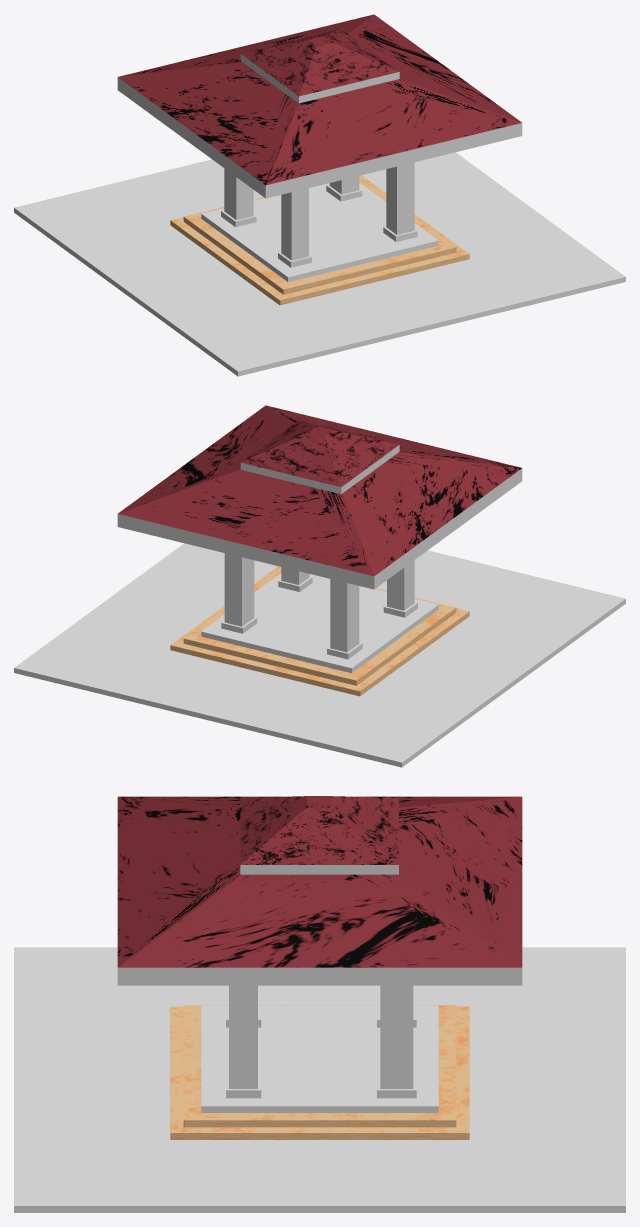
File: RumahMobilTni.fbx
The picture shows the model from 3 angles, top to bottom: view 1: azimuth 30°, elevation 25°; view 2: azimuth 150°, elevation 25°; view 3: azimuth 270°, elevation 25°; orthographic projection. The views are drawn at different scales.
Visible parts, largest first — view 1: Cube.002, Cube, Plane, Cube.001, Cube.003; view 2: Cube.002, Cube, Plane, Cube.001, Cube.003; view 3: Cube.002, Cube, Plane, Cube.001, Cube.003.
Boxes of the visible parts, <box> form: Cube.002: <box>14,152,625,376</box>; Cube: <box>117,14,522,198</box>; Plane: <box>201,162,438,282</box>; Cube.001: <box>170,175,469,305</box>; Cube.003: <box>240,29,399,103</box>; Cube.002: <box>14,543,625,767</box>; Cube: <box>117,405,522,589</box>; Plane: <box>201,553,438,673</box>; Cube.001: <box>170,566,469,696</box>; Cube.003: <box>240,420,399,494</box>; Cube.002: <box>14,947,625,1212</box>; Cube: <box>117,796,522,985</box>; Plane: <box>201,985,438,1112</box>; Cube.001: <box>170,1005,469,1139</box>; Cube.003: <box>240,796,398,874</box>.
Bounding box in the file's own units: 3348 × 1702 × 3348.
